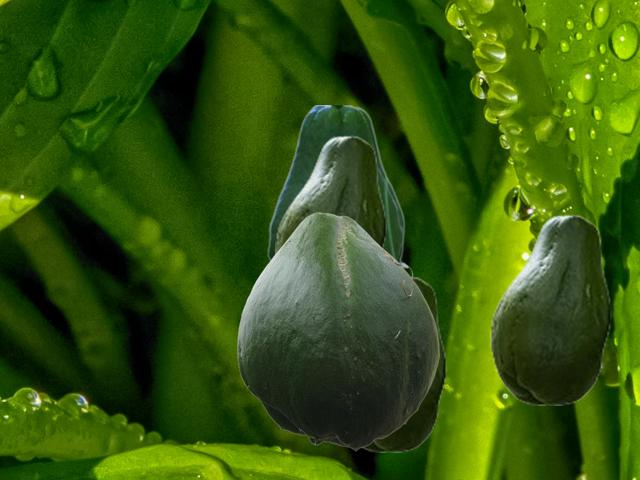sayote: (237, 212, 438, 450), (267, 105, 408, 269), (490, 214, 610, 404), (360, 276, 445, 451), (275, 135, 385, 252)
